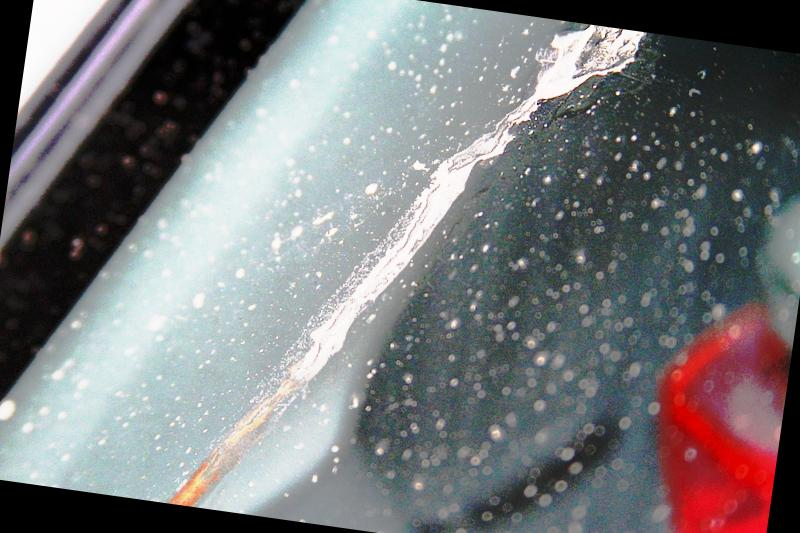Bird Poop: (169, 24, 643, 505)
